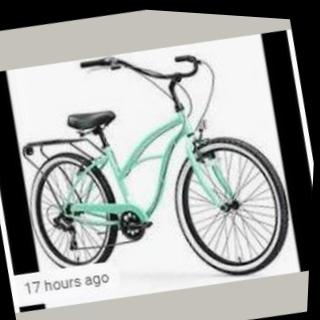Bike: (0, 16, 310, 319)
